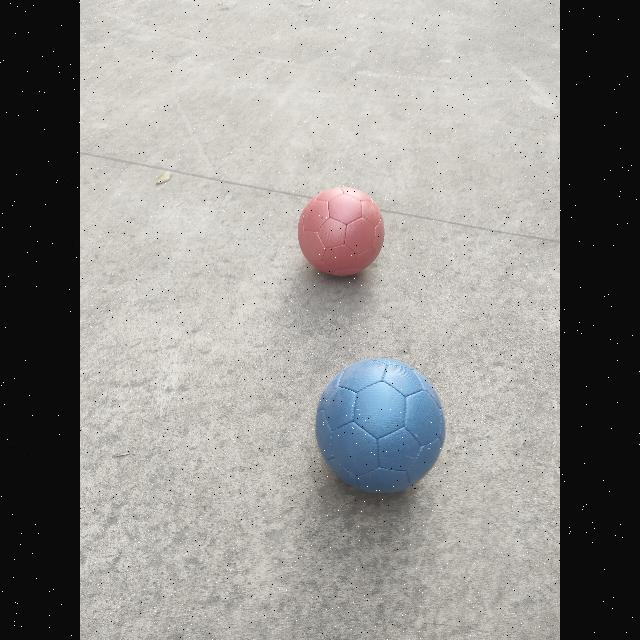B: (316, 358, 446, 496)
R: (298, 188, 384, 278)
